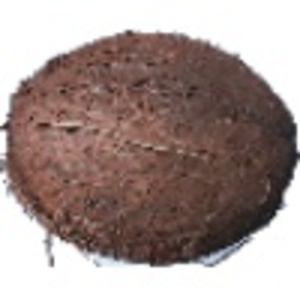coco: (1, 31, 300, 268)
